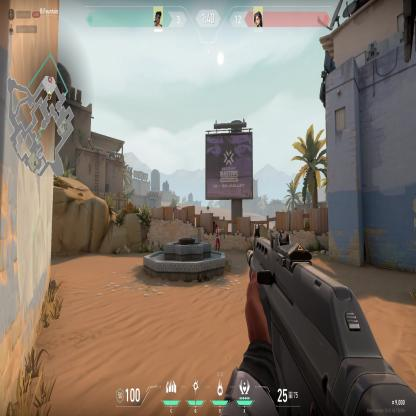enemy: (214, 222, 221, 252)
